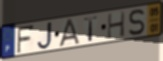A: (58, 18, 81, 48)
F: (16, 24, 36, 54)
H: (107, 10, 127, 41)
J: (36, 21, 54, 51)
S: (128, 8, 146, 37)
T: (83, 15, 99, 43)
